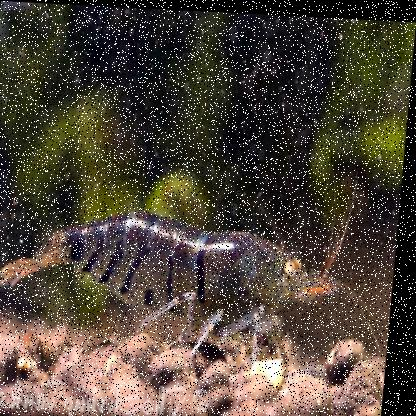shrimp: (0, 200, 361, 386)
